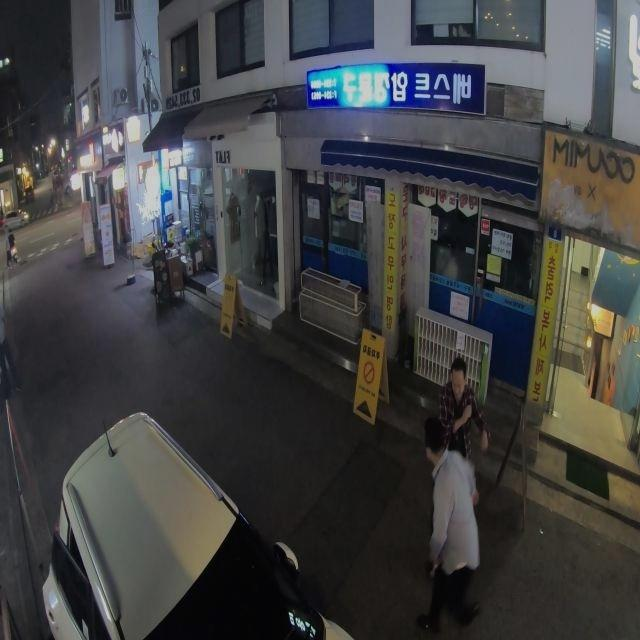non-fight: (416, 427, 487, 634), (425, 356, 487, 476)
